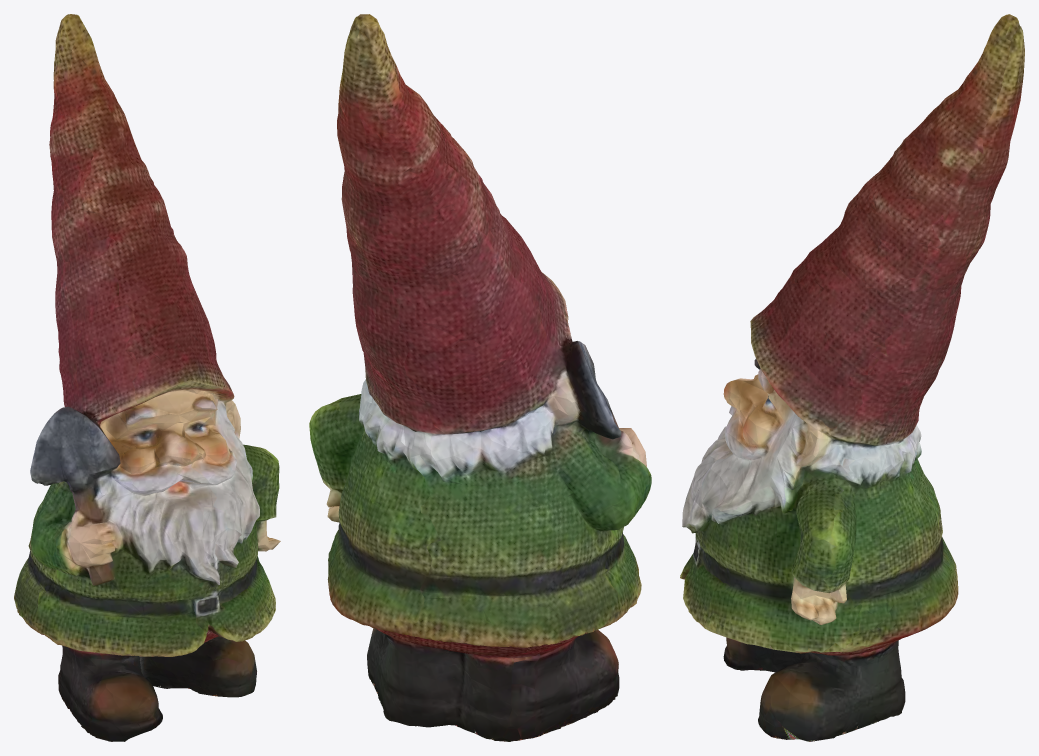
File: gnome.glb
3 views of the same model, side by side, from view 1: azimuth 30°, elevation 25°; view 2: azimuth 150°, elevation 25°; view 3: azimuth 270°, elevation 25° (orthographic). The views are drawn at different scales.
Visible parts, largest first — view 1: Object_2; view 2: Object_2; view 3: Object_2.
Boxes of the visible parts, x1,y1,x2,y2 form: Object_2: (14, 14, 280, 741); Object_2: (309, 14, 651, 741); Object_2: (680, 14, 1024, 741).
Size of the model in its own units: 1.6 by 3.75 by 1.71.
3 materials, 3 textured.
